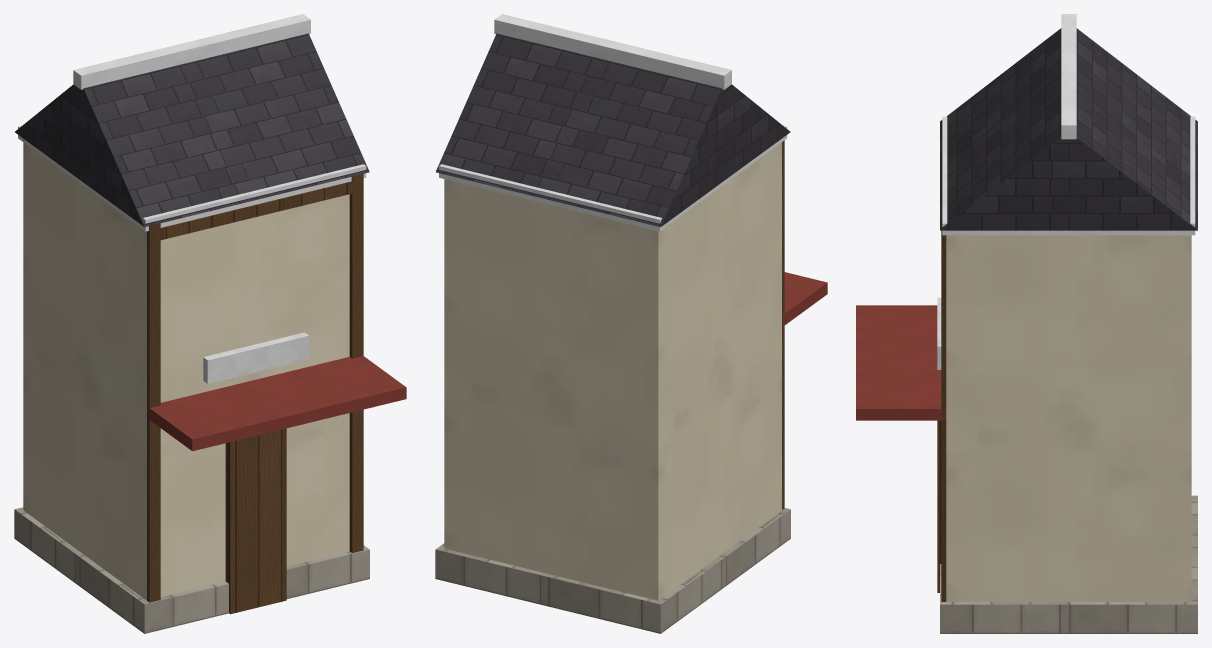
Rendered from category.dex.t4.glb.
The picture shows the model from 3 angles, left to right: view 1: azimuth 30°, elevation 25°; view 2: azimuth 150°, elevation 25°; view 3: azimuth 270°, elevation 25°; orthographic projection.
Visible parts, largest first — view 1: building.category.dex.t4; view 2: building.category.dex.t4; view 3: building.category.dex.t4.
Part boxes in pixels (box(x1,y1,x2,y2)): building.category.dex.t4: box(14, 14, 406, 633); building.category.dex.t4: box(435, 14, 827, 633); building.category.dex.t4: box(856, 14, 1197, 633).
Bounding box in the file's own units: 2.04 × 4.36 × 2.65.
Materials: 7 (7 with a texture image).
